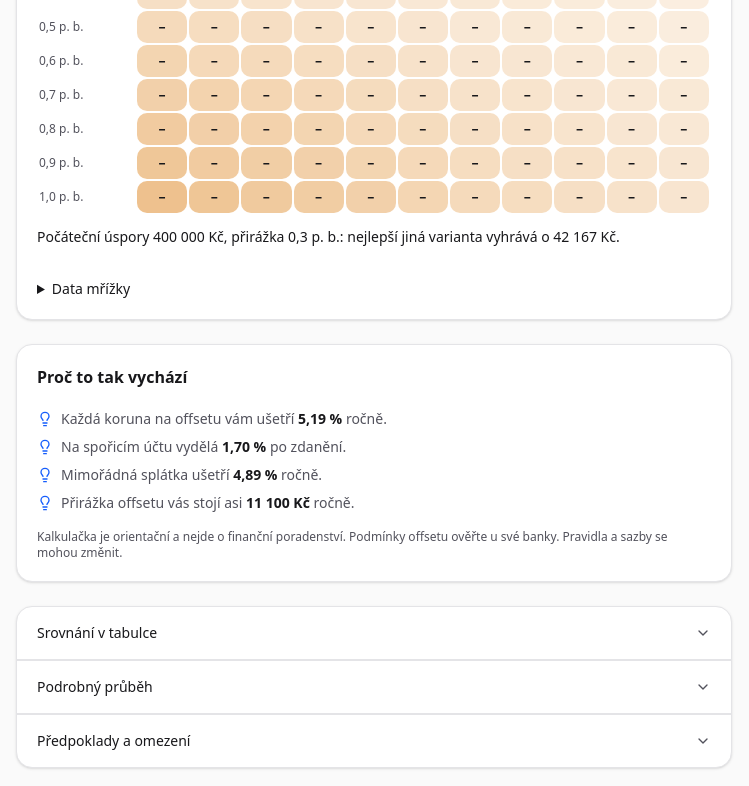
Test case: the assumptions are in a collapsed section
(page scrolled)
Expected: the text "Mechanika offsetu se liší podle banky" is not shown
Click the button "Předpoklady a omezení": click(114, 740) [37,715,711,767]
(page scrolled)
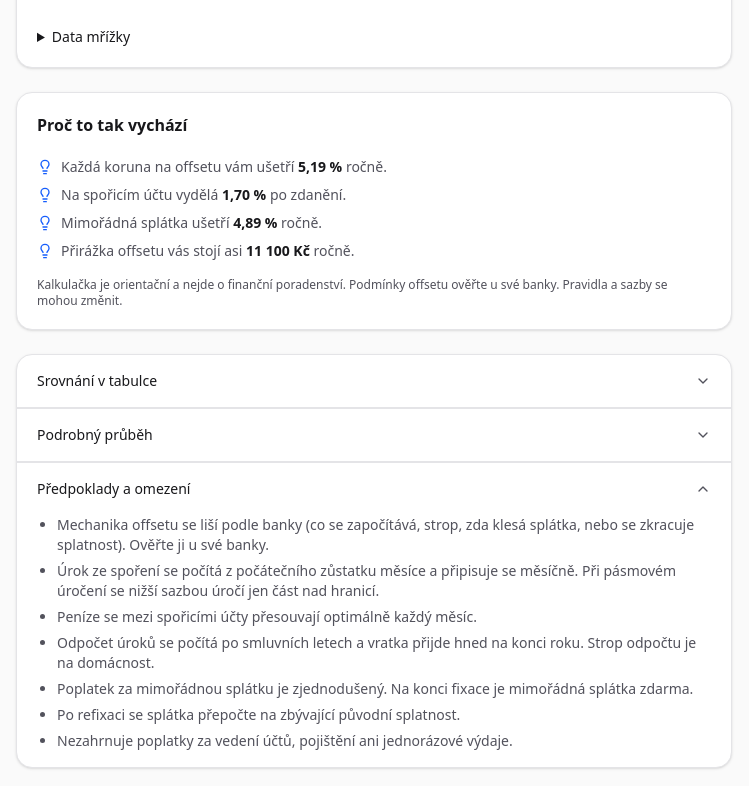
Expected: the list item "Mechanika offsetu se liší podle banky" is shown, [57,515,694,554]
